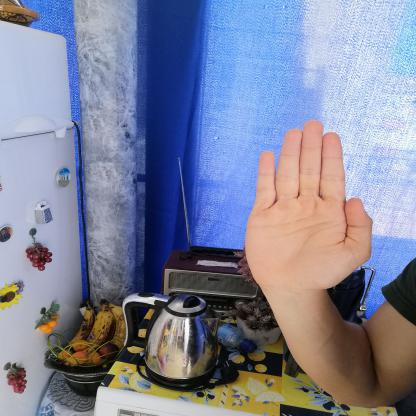SEEN: (230, 113, 383, 301)
